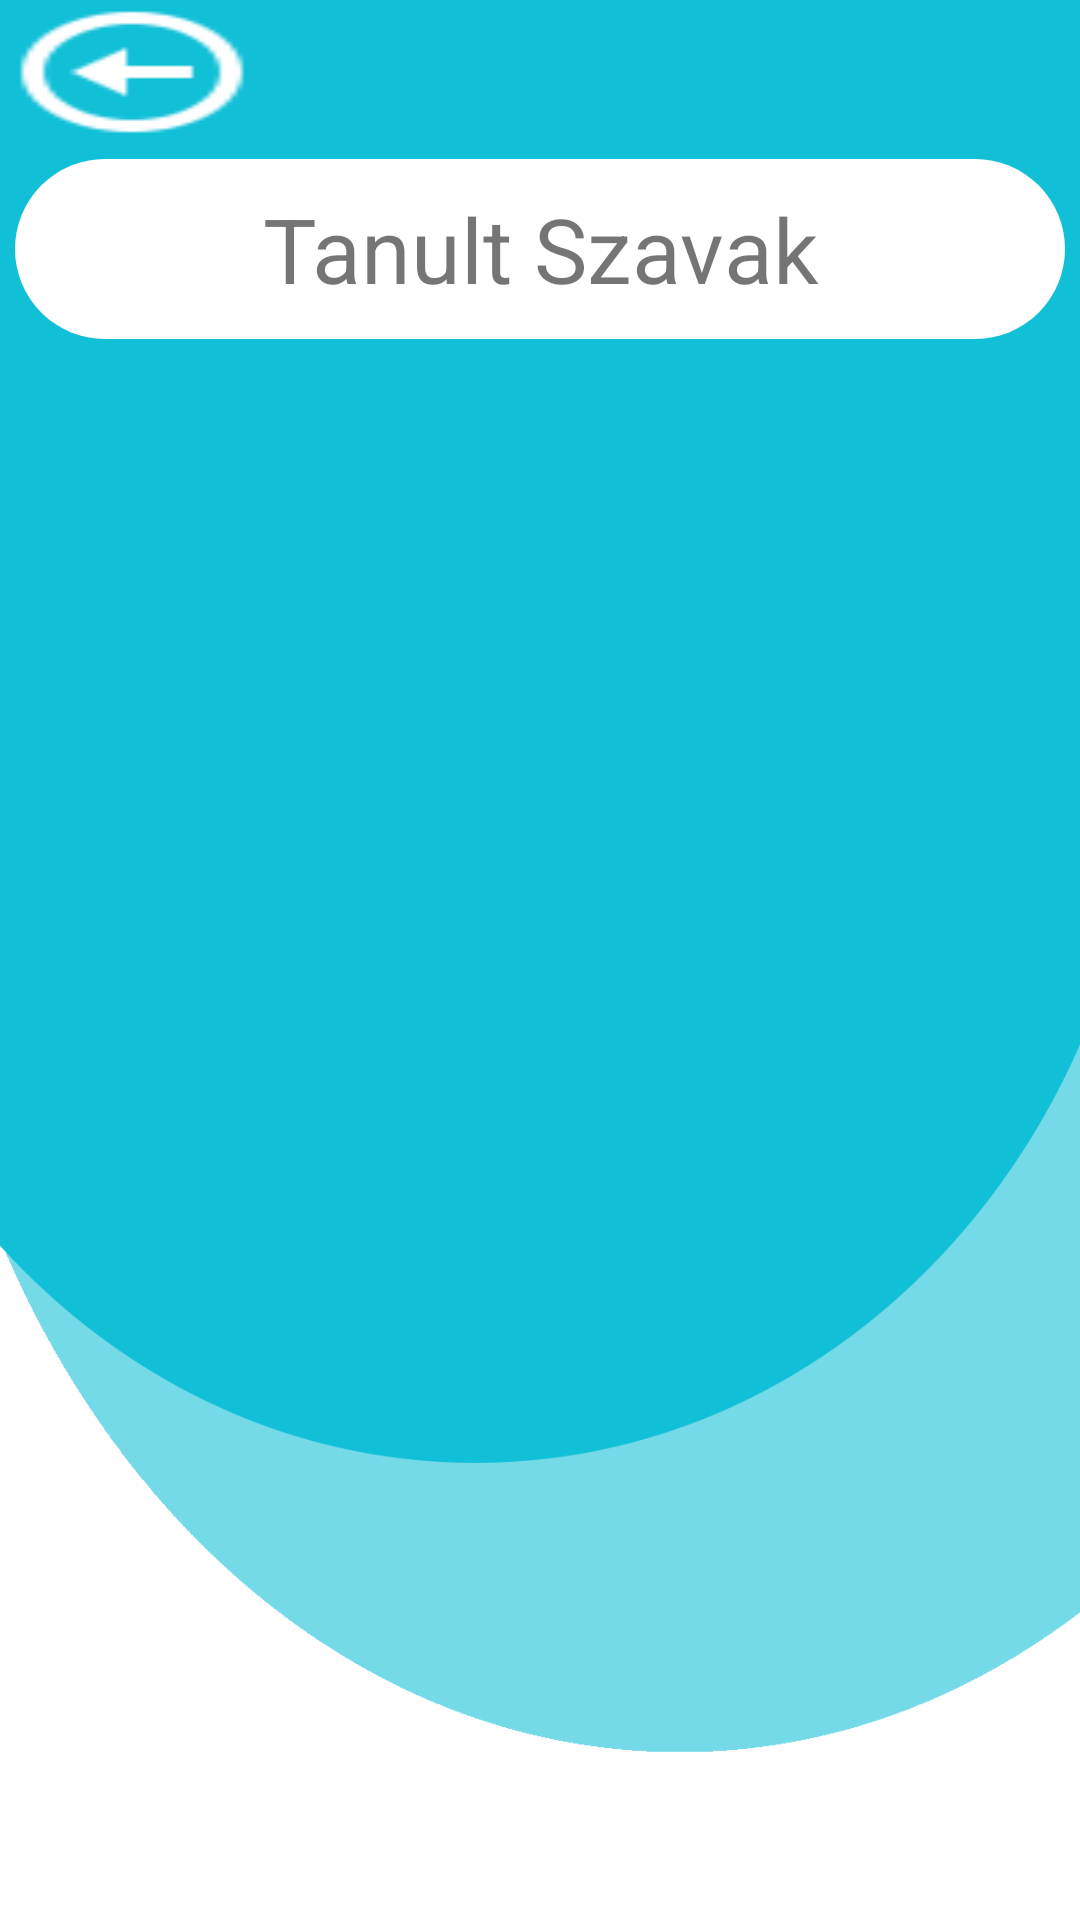

Point at icon controls on the screen. Image size 1080*1920, points as point (x, y).
back: point (132, 72)
